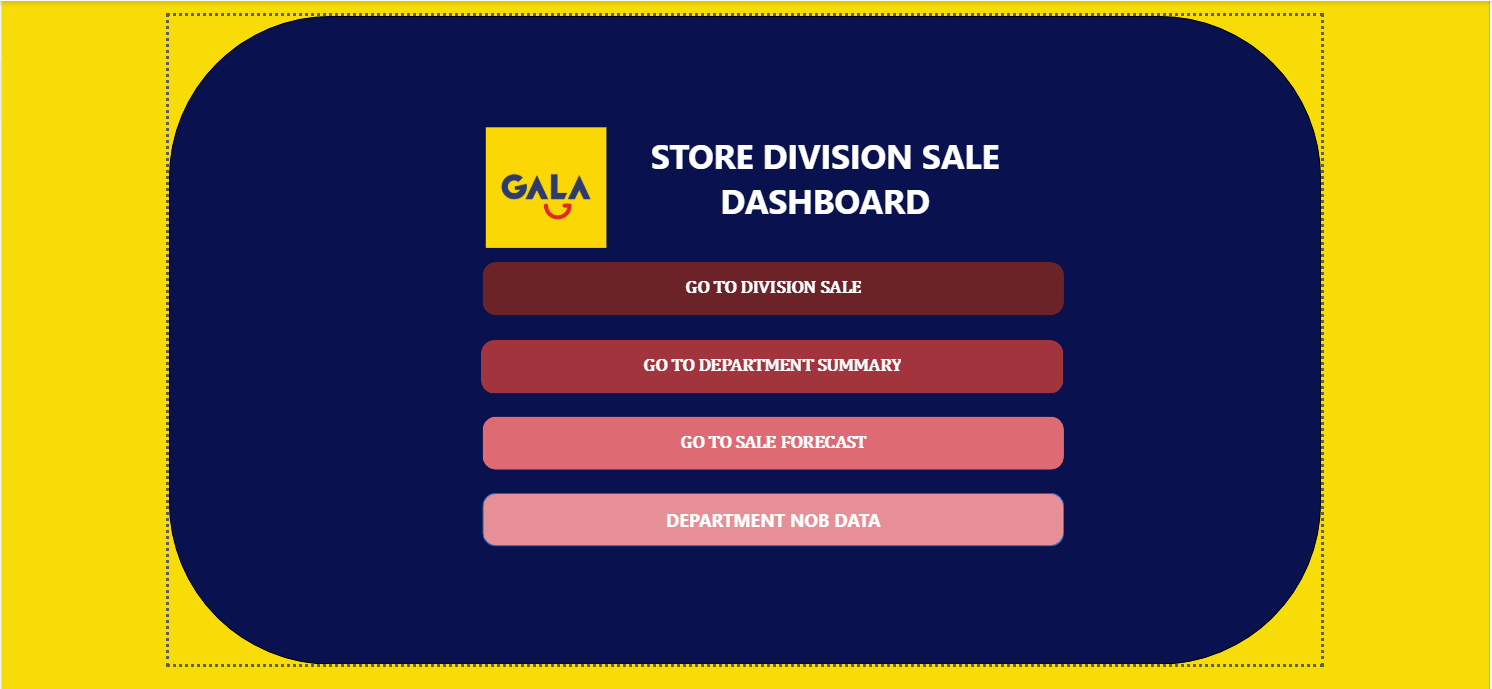

What the dashboard file says about the page in this screenshot:
{"tool":"powerbi","page":{"name":"INDEX","canvas":[1280,720],"ordinal":0},"visuals":[{"type":"shape","box":[0,0,1280,720.7],"z":0},{"type":"textbox","box":[490.5,125.8,477.8,129.3],"z":1000},{"type":"shape","title":"Dept_Hide","box":[346.2,360.3,647.1,59.5],"z":2000},{"type":"shape","title":"Dept_Hide","box":[348,445.8,646.2,59],"z":3000},{"type":"shape","box":[348,529.7,646.2,59],"z":4000},{"type":"shape","title":"Dept_Hide","box":[348,273.4,646.2,59],"z":5000},{"type":"image","box":[346.2,119.1,144.1,144.1],"z":6000}]}

Visuals, with their boxes in screenshot pixels (x1, y1, x2, y2):
shape: (left=159, top=8, right=1322, bottom=663)
textbox: (left=605, top=122, right=1039, bottom=240)
"Dept_Hide" shape: (left=474, top=335, right=1062, bottom=389)
"Dept_Hide" shape: (left=475, top=413, right=1063, bottom=466)
shape: (left=475, top=489, right=1063, bottom=543)
"Dept_Hide" shape: (left=475, top=256, right=1063, bottom=310)
image: (left=474, top=116, right=605, bottom=247)
